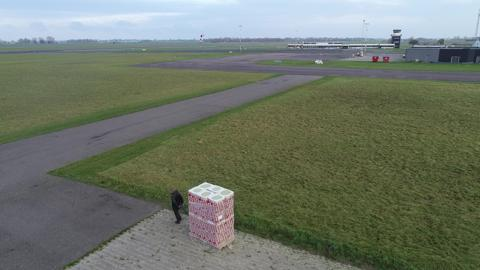RockwoolPallet: (187, 181, 236, 250)
